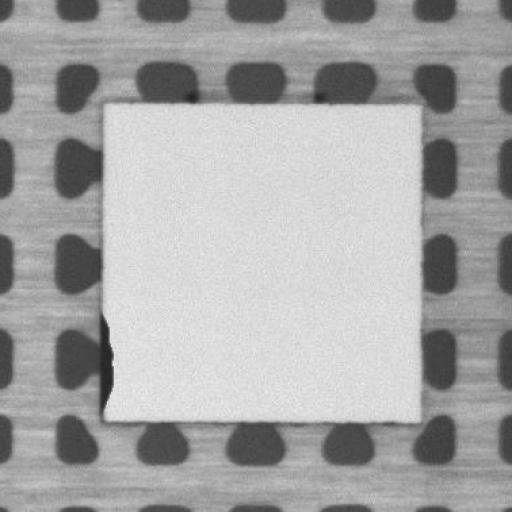DIE_BROKEN: (94, 314, 115, 414)
